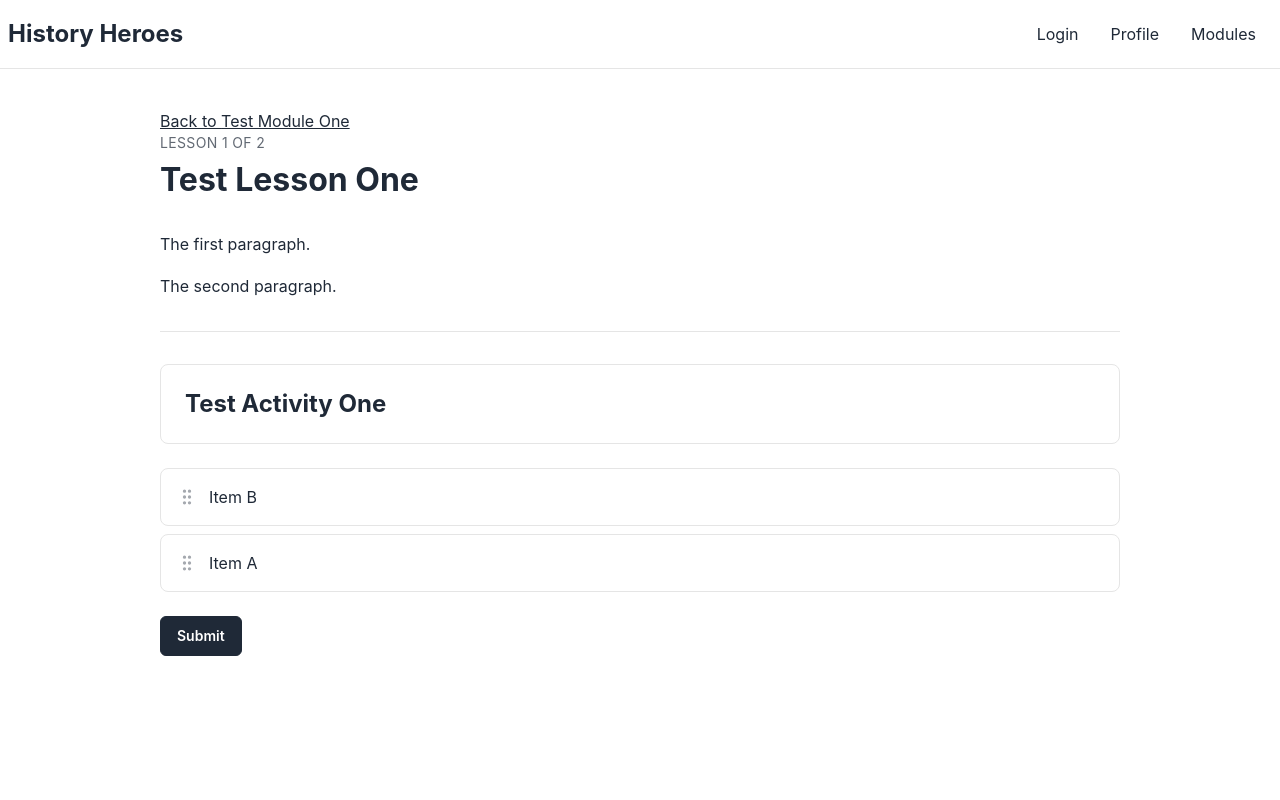
Scenario: does not save completion for an incorrect answer
The image size is (1280, 800).
Expected: the heading "Test Lesson One" is shown, [160, 160, 419, 199]
Click the button "Submit" at x=201, y=636, box [160, 616, 242, 656]
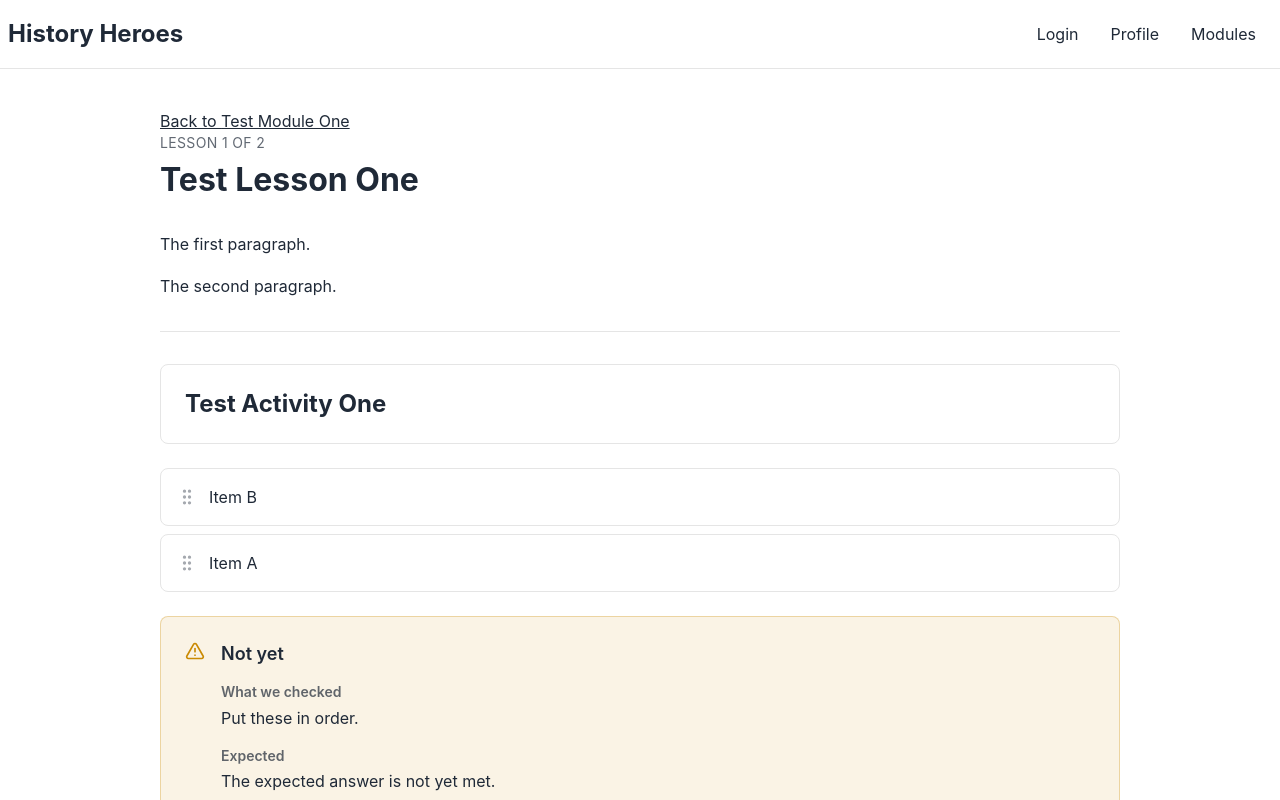
Expected: the heading "Not yet" is shown, [221, 643, 284, 664]
